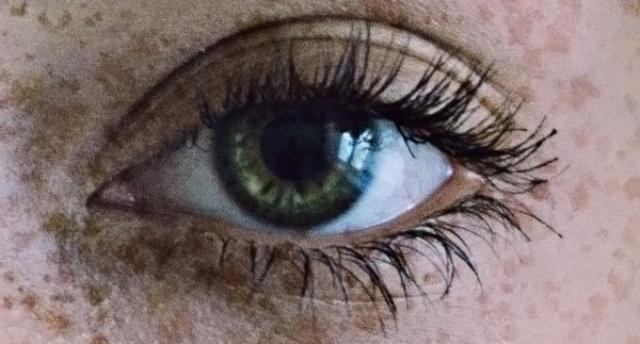eye: (212, 100, 380, 232)
